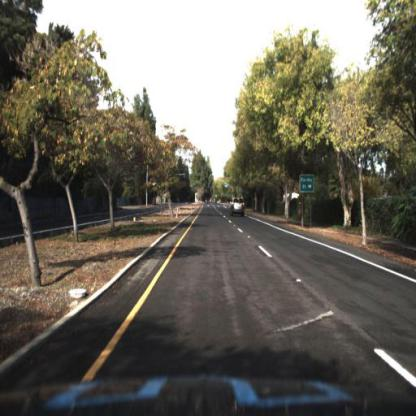car: (232, 197, 246, 218)
